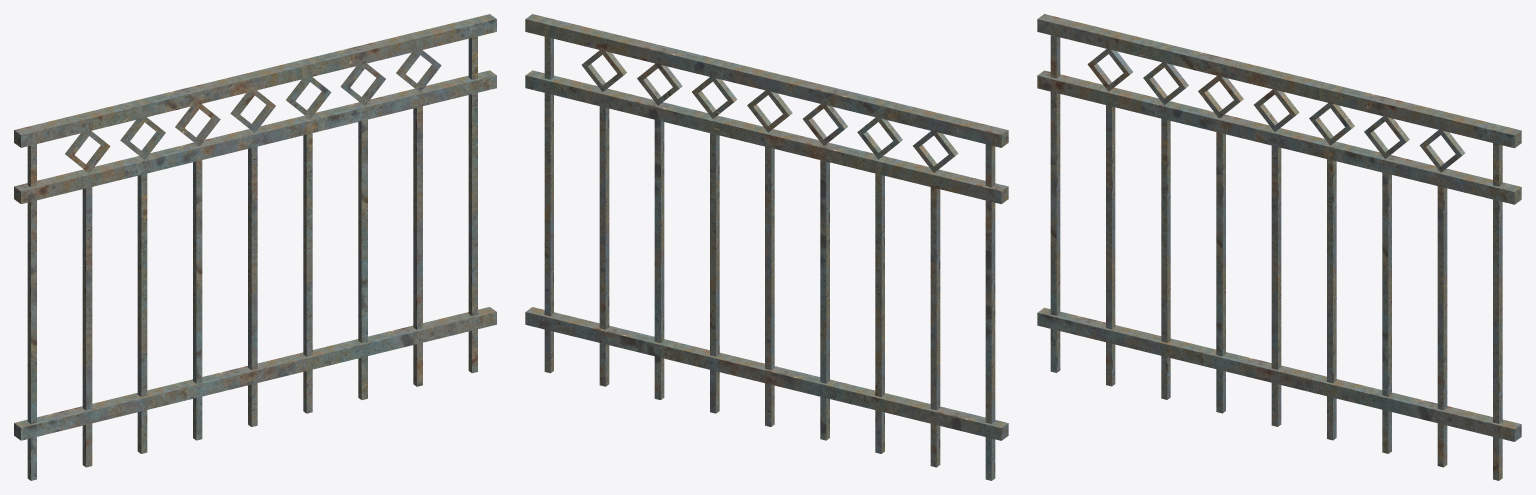
File: fence07.FBX
3 views of the same model, side by side, from view 1: azimuth 30°, elevation 25°; view 2: azimuth 150°, elevation 25°; view 3: azimuth 330°, elevation 25° (orthographic).
Visible parts, largest first — view 1: metal_fence_small_diamond; view 2: metal_fence_small_diamond; view 3: metal_fence_small_diamond.
Boxes of the visible parts, x1,y1,x2,y2 form: metal_fence_small_diamond: (14,14,496,480); metal_fence_small_diamond: (525,14,1008,480); metal_fence_small_diamond: (1037,14,1521,480).
Bounding box in the file's own units: 247 × 173 × 6.31.
